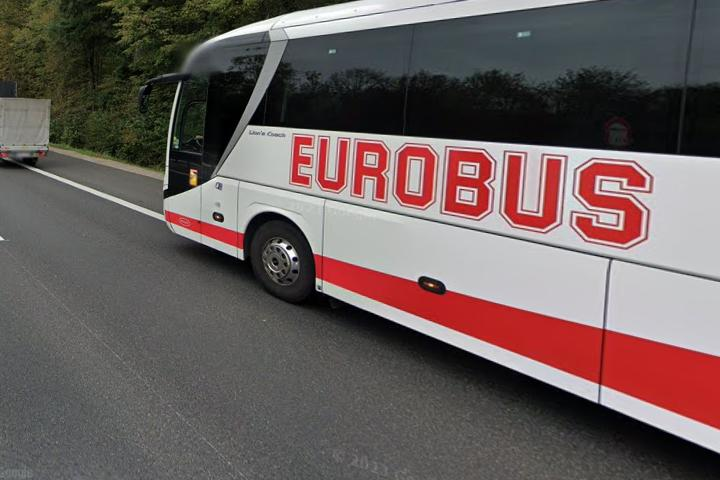traffic_sign: (602, 116, 631, 143)
vehicle: (137, 1, 720, 458)
